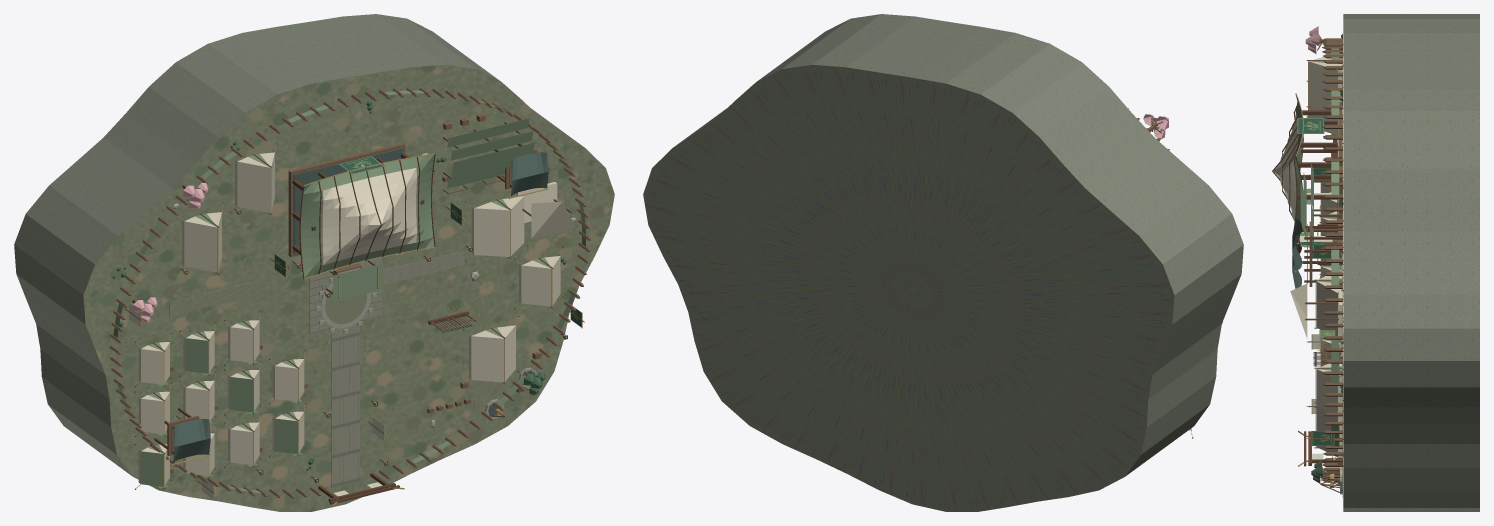
Rendered from Elven_Japanese_War_Camp.glb.
3 renders of one model, left to right at view 1: azimuth 30°, elevation 25°; view 2: azimuth 150°, elevation 25°; view 3: azimuth 270°, elevation 25°, orthographic.
Parts seen in each view (by area): view 1: ElvenCamp_ground, ElvenCamp_bedrock, ElvenCamp_ivory, ElvenCamp_sage, ElvenCamp_oak, ElvenCamp_paving, ElvenCamp_dark, ElvenCamp_pinewood, ElvenCamp_bronze, ElvenCamp_stone, ElvenCamp_goldcloth, ElvenCamp_pink (+1 smaller); view 2: ElvenCamp_bedrock; view 3: ElvenCamp_bedrock, ElvenCamp_ivory, ElvenCamp_oak, ElvenCamp_pinewood, ElvenCamp_sage, ElvenCamp_goldcloth, ElvenCamp_bronze, ElvenCamp_dark, ElvenCamp_bannerwhite, ElvenCamp_pink, ElvenCamp_pine.
Part boxes in pixels (x1,y1,x2,y2): ElvenCamp_ground: (83, 64, 614, 511); ElvenCamp_bedrock: (14, 14, 584, 476); ElvenCamp_ivory: (138, 151, 575, 485); ElvenCamp_sage: (113, 90, 585, 493); ElvenCamp_oak: (109, 87, 590, 498); ElvenCamp_paving: (309, 250, 464, 487); ElvenCamp_dark: (173, 148, 565, 481); ElvenCamp_pinewood: (134, 143, 567, 504); ElvenCamp_bronze: (140, 113, 584, 506); ElvenCamp_stone: (172, 153, 576, 427); ElvenCamp_goldcloth: (274, 156, 581, 327); ElvenCamp_pink: (133, 183, 208, 323); ElvenCamp_bedrock: (643, 14, 1243, 511); ElvenCamp_bedrock: (1343, 14, 1479, 511); ElvenCamp_ivory: (1273, 53, 1342, 457); ElvenCamp_oak: (1298, 35, 1342, 492); ElvenCamp_pinewood: (1272, 44, 1343, 466); ElvenCamp_sage: (1295, 48, 1342, 478); ElvenCamp_goldcloth: (1297, 118, 1334, 445); ElvenCamp_bronze: (1295, 61, 1341, 487); ElvenCamp_dark: (1292, 119, 1337, 460); ElvenCamp_bannerwhite: (1312, 334, 1323, 458); ElvenCamp_pink: (1305, 26, 1319, 117); ElvenCamp_pine: (1311, 34, 1342, 483).
Size of the model in its own units: 190 by 147 by 65.38.
Materials: 18 (18 with a texture image).
